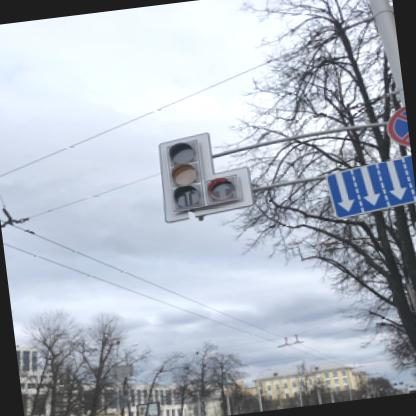trafficlight: (160, 132, 242, 214)
